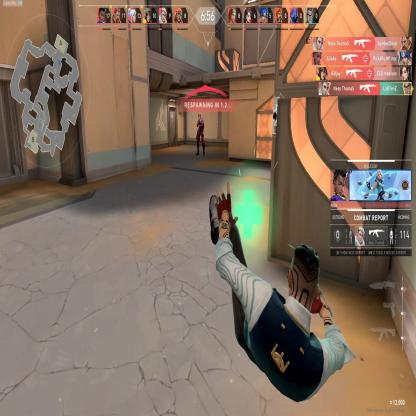enemy: (195, 111, 206, 157)
